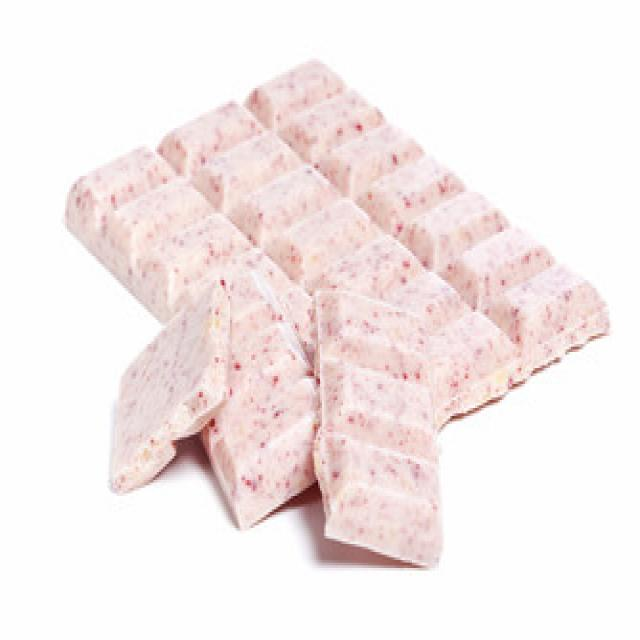chocolate: (64, 53, 612, 441), (108, 279, 445, 574), (317, 279, 445, 574)
